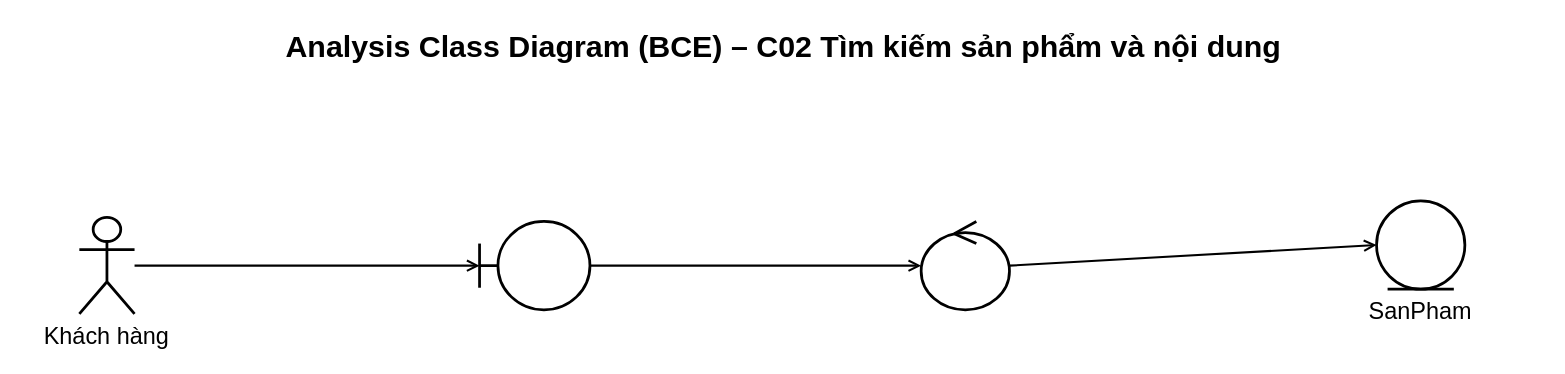
Some shapes in this 1565 by 374 pixel diagram are drawn without their labels. Each missing label, with the box of its shape:
TimKiemController: (919, 219, 1010, 310)
TimKiemPage: (477, 219, 591, 310)
